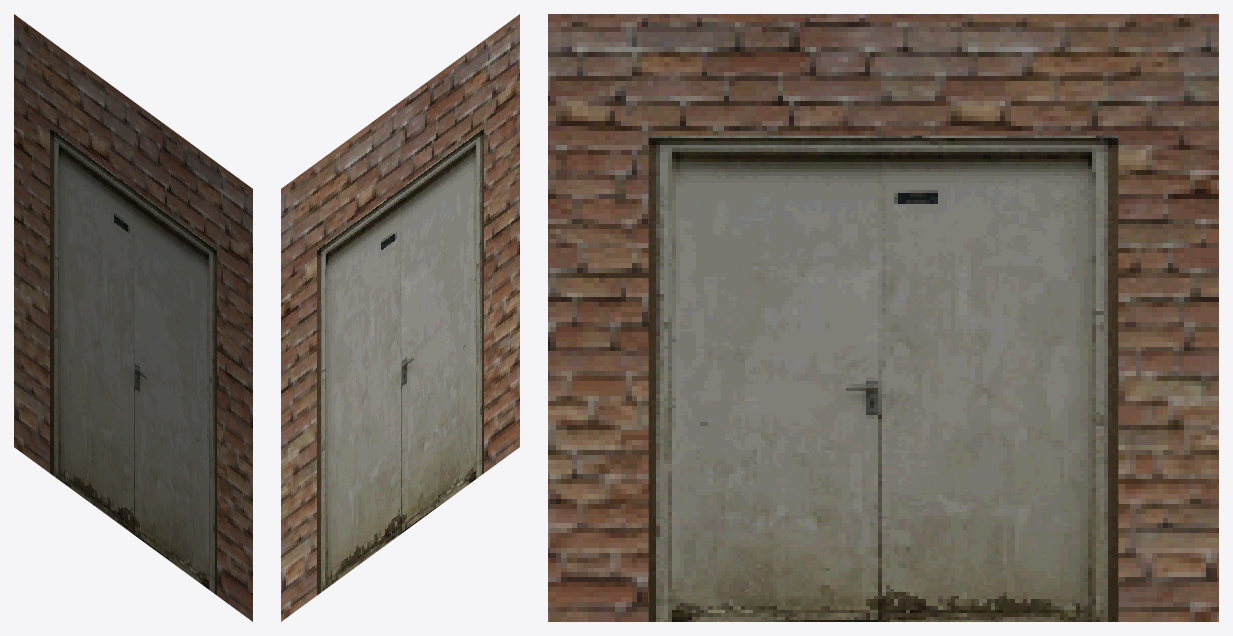
The model's file is brick_wall_old_door.glb.
3 views of the same model, side by side, from view 1: azimuth 30°, elevation 25°; view 2: azimuth 150°, elevation 25°; view 3: azimuth 270°, elevation 25° (orthographic). The views are drawn at different scales.
Visible parts, largest first — view 1: brick_wall_old_door; view 2: brick_wall_old_door; view 3: brick_wall_old_door.
Boxes of the visible parts, <box> form: brick_wall_old_door: <box>14,14,252,621</box>; brick_wall_old_door: <box>281,14,519,621</box>; brick_wall_old_door: <box>548,14,1218,621</box>.
Size of the model in its own units: 0 by 3 by 3.
1 material, 1 textured.
